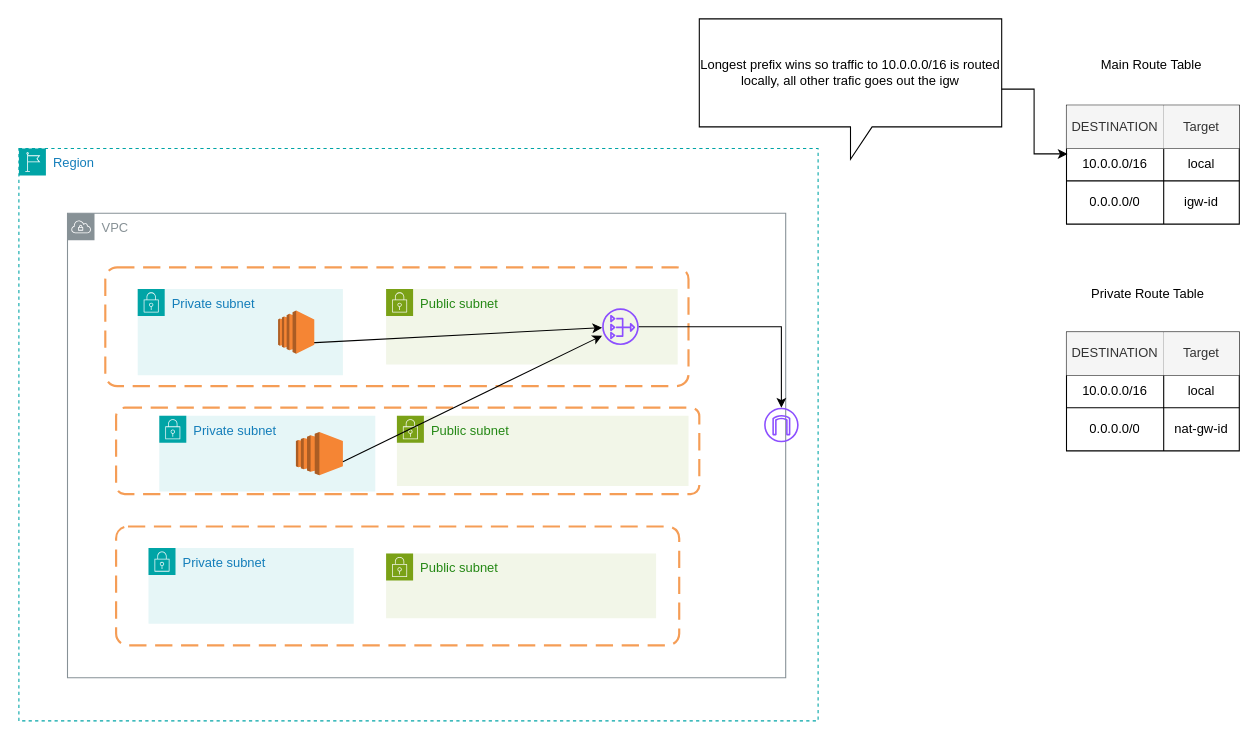
This 1258x740 diagram has some shape labels left out. Each missing label, with the centre of its shape:
"internet Gateway" goes at point (781, 424).
"nat gateway" goes at point (620, 326).
